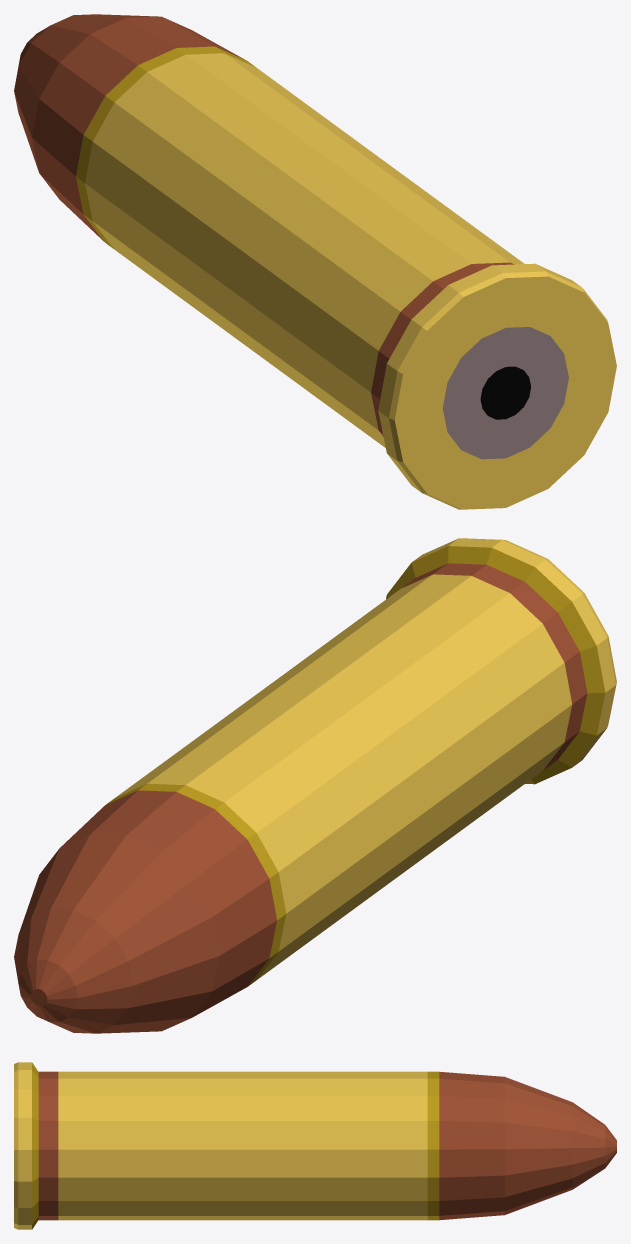
Rendered from bullet.fbx.
3 views of the same model, one above another, from view 1: azimuth 30°, elevation 25°; view 2: azimuth 150°, elevation 25°; view 3: azimuth 270°, elevation 25° (orthographic). The views are drawn at different scales.
Visible parts, largest first — view 1: bullet; view 2: bullet; view 3: bullet.
Part boxes in pixels (left/top/right/bottom): bullet: left=14, top=14, right=616, bottom=509; bullet: left=14, top=538, right=616, bottom=1033; bullet: left=14, top=1062, right=616, bottom=1229.
Bounding box in the file's own units: 85.26 × 84.25 × 304.
